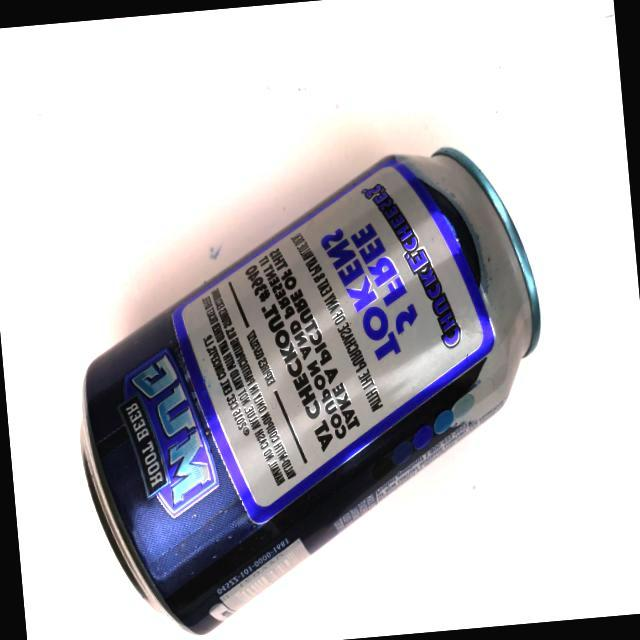metal: (38, 122, 589, 640)
